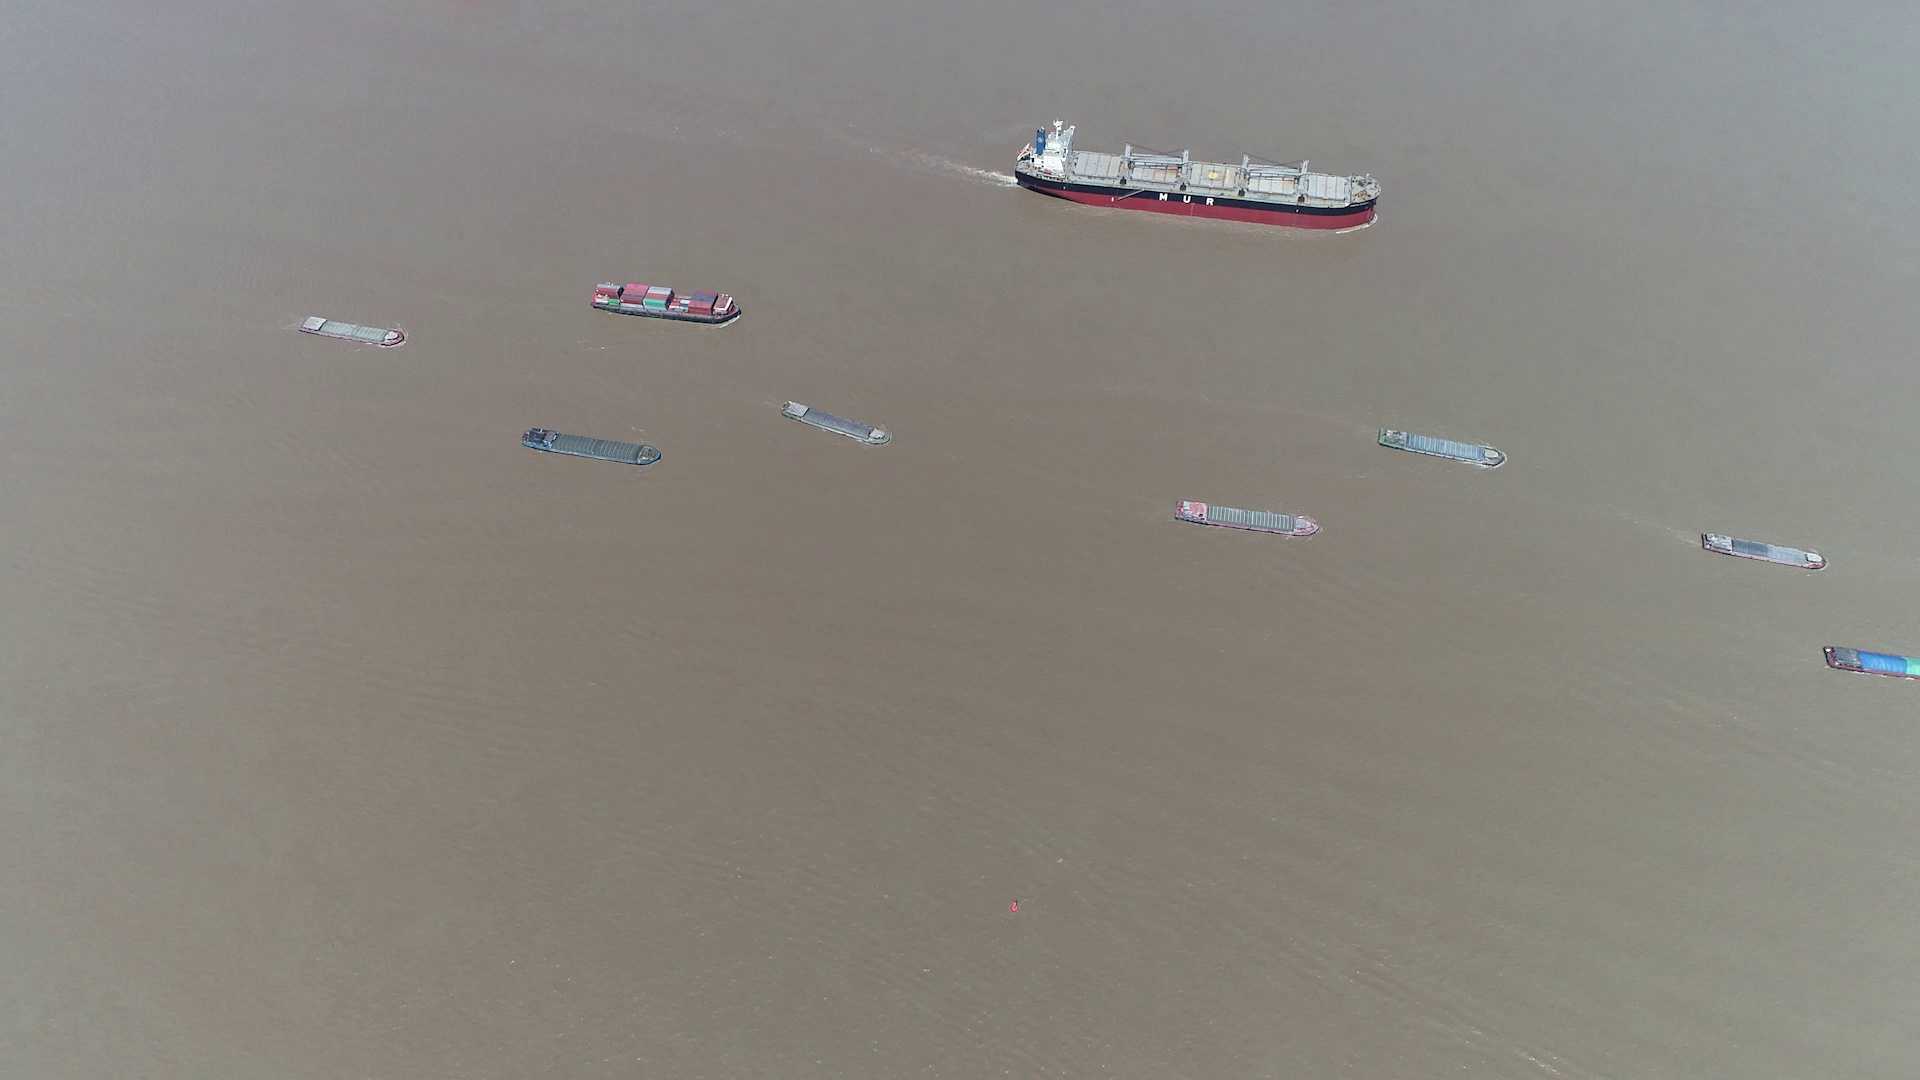ship: (1010, 124, 1379, 225), (591, 280, 742, 324), (520, 427, 662, 469), (1174, 500, 1319, 538), (1379, 427, 1507, 469), (781, 401, 891, 448), (1698, 530, 1826, 571), (1824, 645, 1919, 682), (298, 314, 404, 345)
